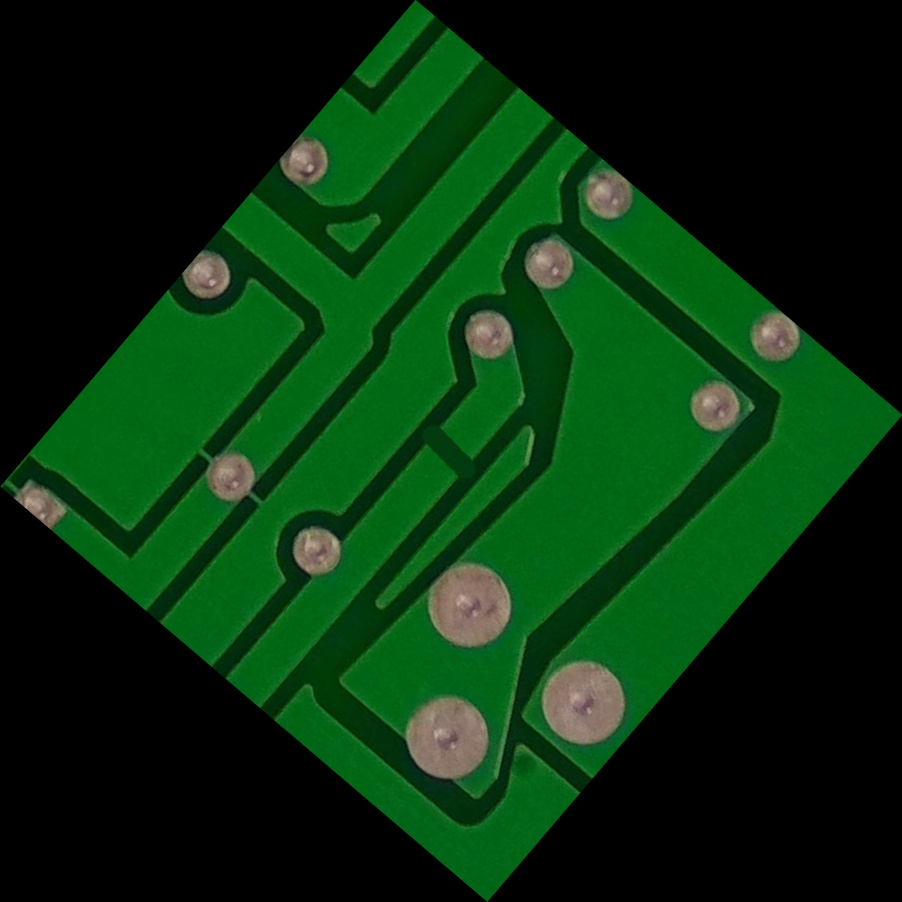open_circuit: (405, 405, 497, 499)
